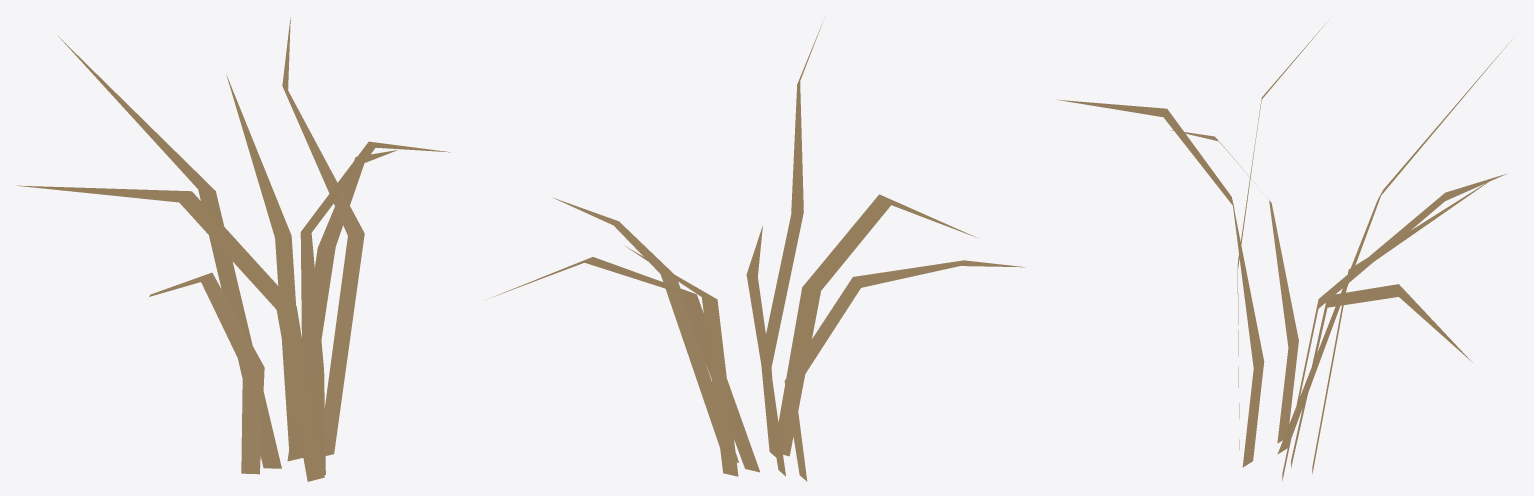
The model's file is Grass_f_OneS_03.fbx.
3 renders of one model, left to right at view 1: azimuth 30°, elevation 25°; view 2: azimuth 150°, elevation 25°; view 3: azimuth 270°, elevation 25°, orthographic. The views are drawn at different scales.
Visible parts, largest first — view 1: Grass_f_OneS_03; view 2: Grass_f_OneS_03; view 3: Grass_f_OneS_03.
Part boxes in pixels (x1=…): Grass_f_OneS_03: x1=17, y1=17, x2=450, y2=481; Grass_f_OneS_03: x1=489, y1=18, x2=1024, y2=481; Grass_f_OneS_03: x1=1056, y1=20, x2=1515, y2=480.
Size of the model in its own units: 0.457 by 0.3692 by 0.4026.
